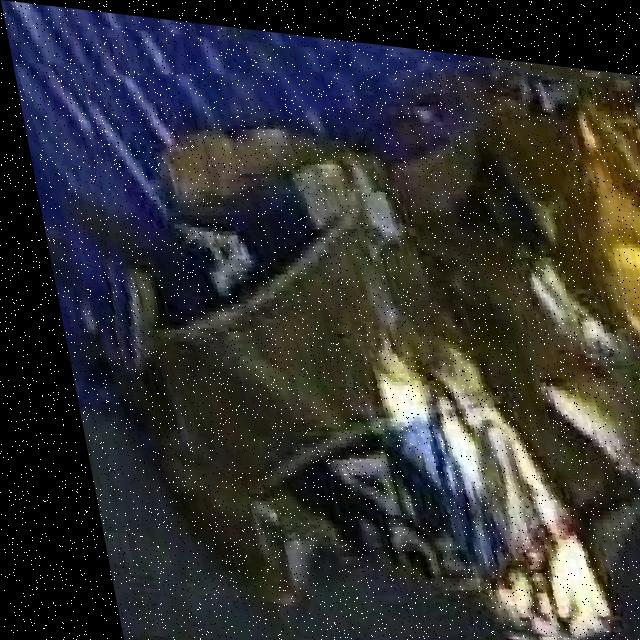litter: (109, 53, 640, 626)
